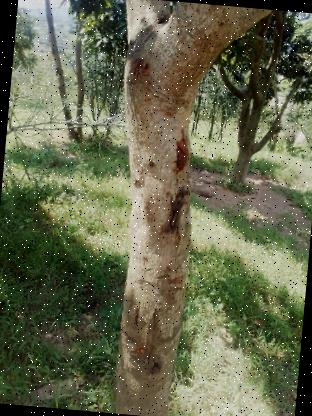tree: (76, 0, 267, 416), (214, 6, 312, 204)
